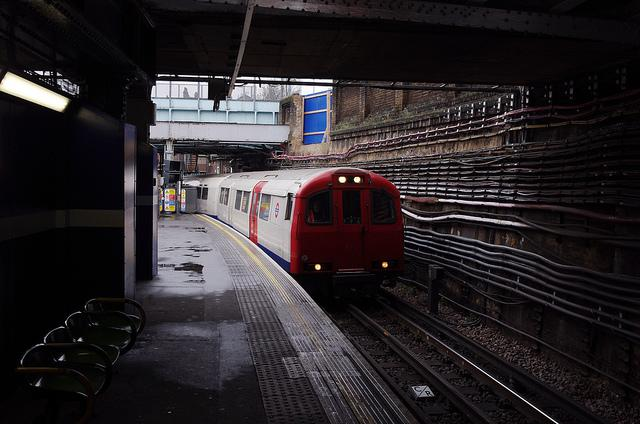Train: (184, 168, 408, 295)
